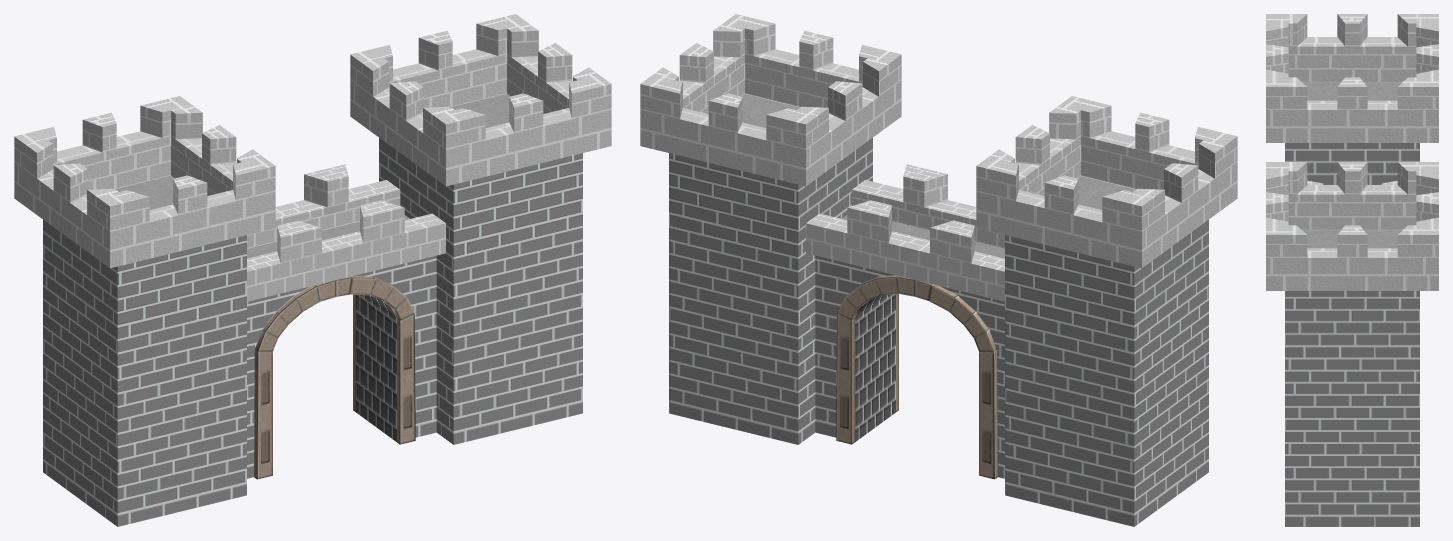
Rendered from Castle Gate.fbx.
The picture shows the model from 3 angles, left to right: view 1: azimuth 30°, elevation 25°; view 2: azimuth 150°, elevation 25°; view 3: azimuth 270°, elevation 25°; orthographic projection. The views are drawn at different scales.
Parts seen in each view (by area): view 1: Tower_Left, Tower_Right, Wall2; view 2: Tower_Left, Tower_Right, Wall2; view 3: Tower_Right, Tower_Left.
Part boxes in pixels (x1,y1,x2,y2): Tower_Left: (14, 96, 275, 526); Tower_Right: (350, 14, 611, 444); Wall2: (247, 164, 445, 479); Tower_Left: (976, 96, 1237, 526); Tower_Right: (640, 14, 901, 444); Wall2: (806, 164, 1004, 479); Tower_Right: (1266, 162, 1438, 526); Tower_Left: (1266, 14, 1438, 184).
Bounding box in the file's own units: 15.52 × 9.83 × 5.13.
